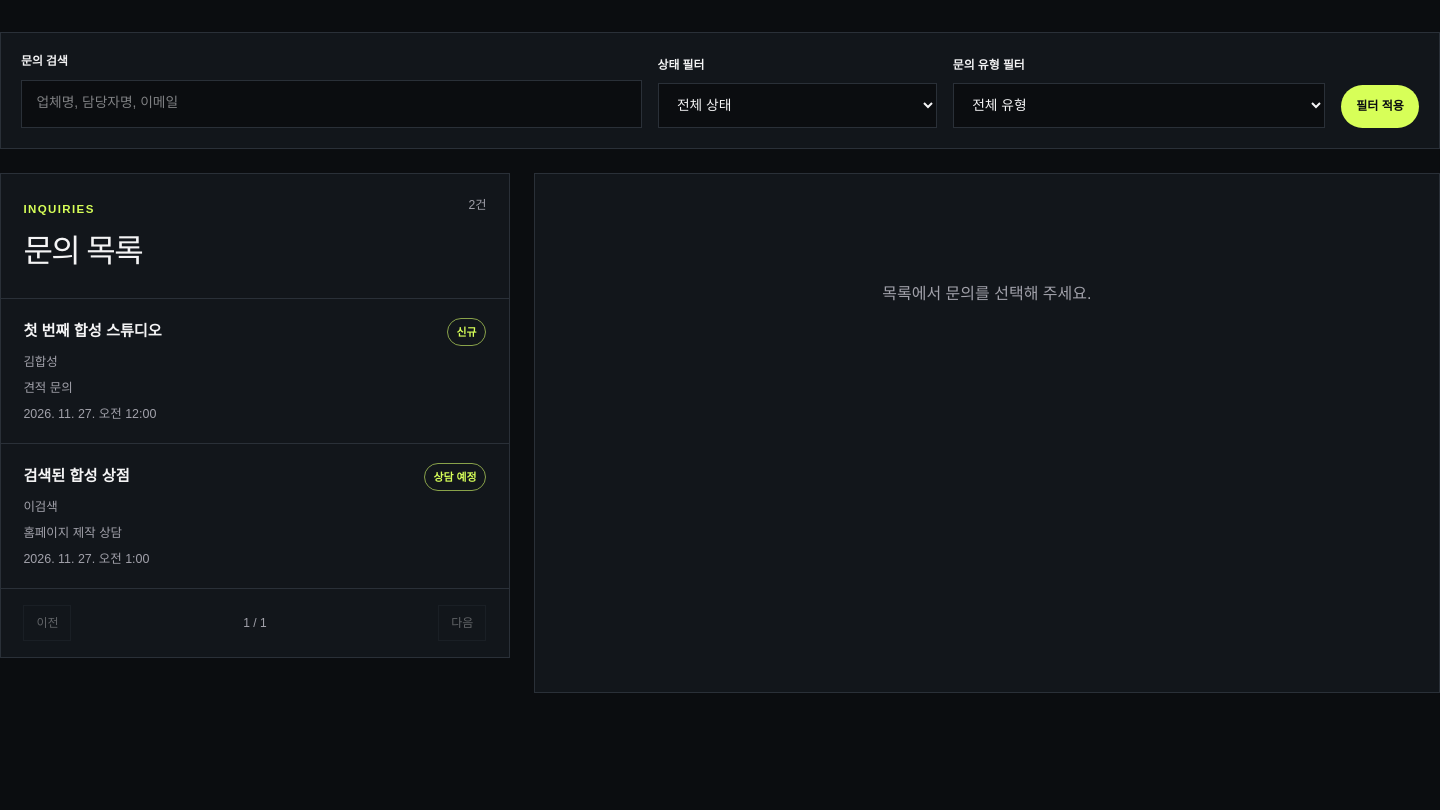
관리자 문의 관리 화면 › 늦은 저장 응답이 다른 문의의 작성 중 메모를 덮어쓰지 않는다
Later steps or results of the test are not shown.
Step 1. Click the button with aria-label "첫 번째 합성 스튜디오 김합성" → (93,331), box [1,299,509,443]
(page scrolled)
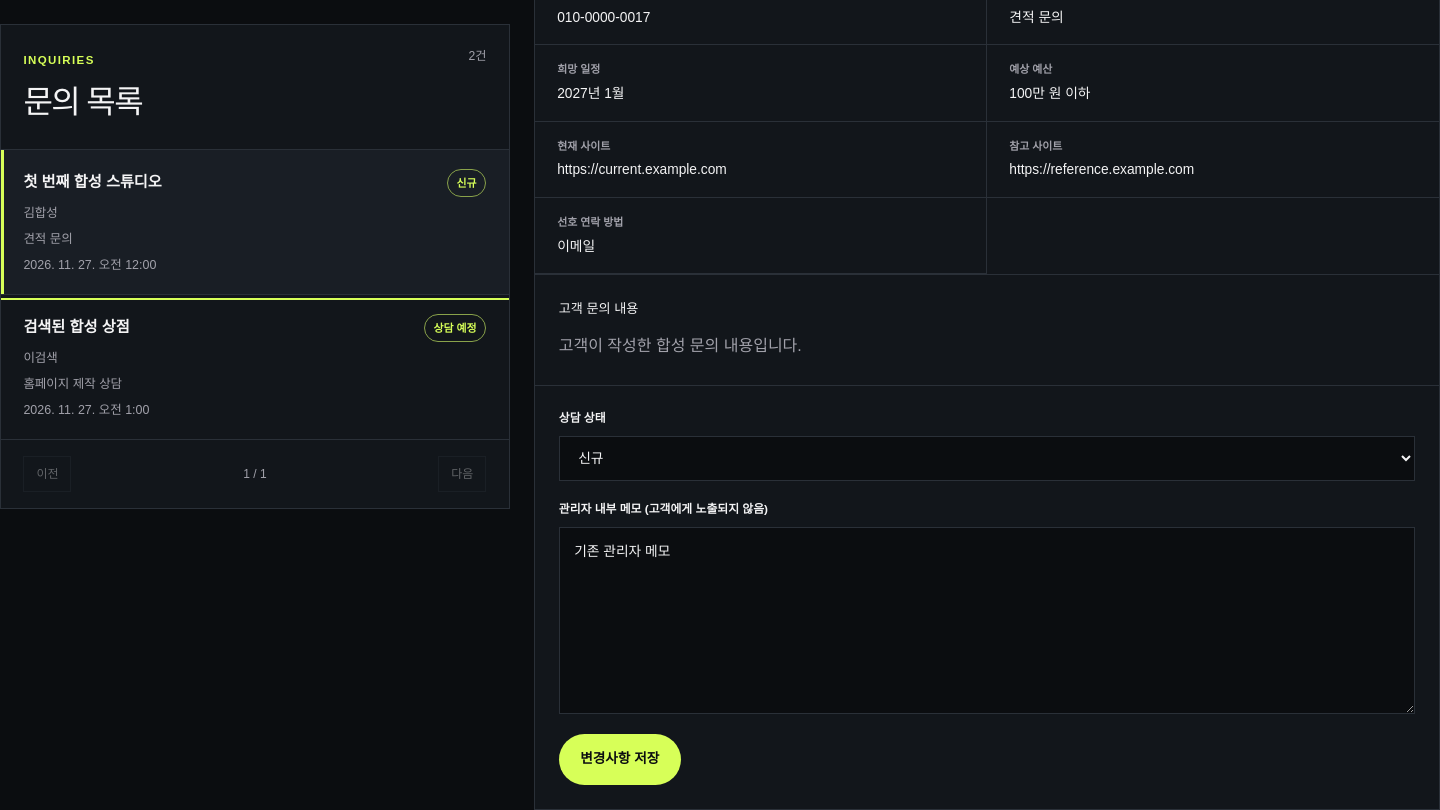
Check: the heading "고객 문의 내용" is shown, box [559,302,638,316]
